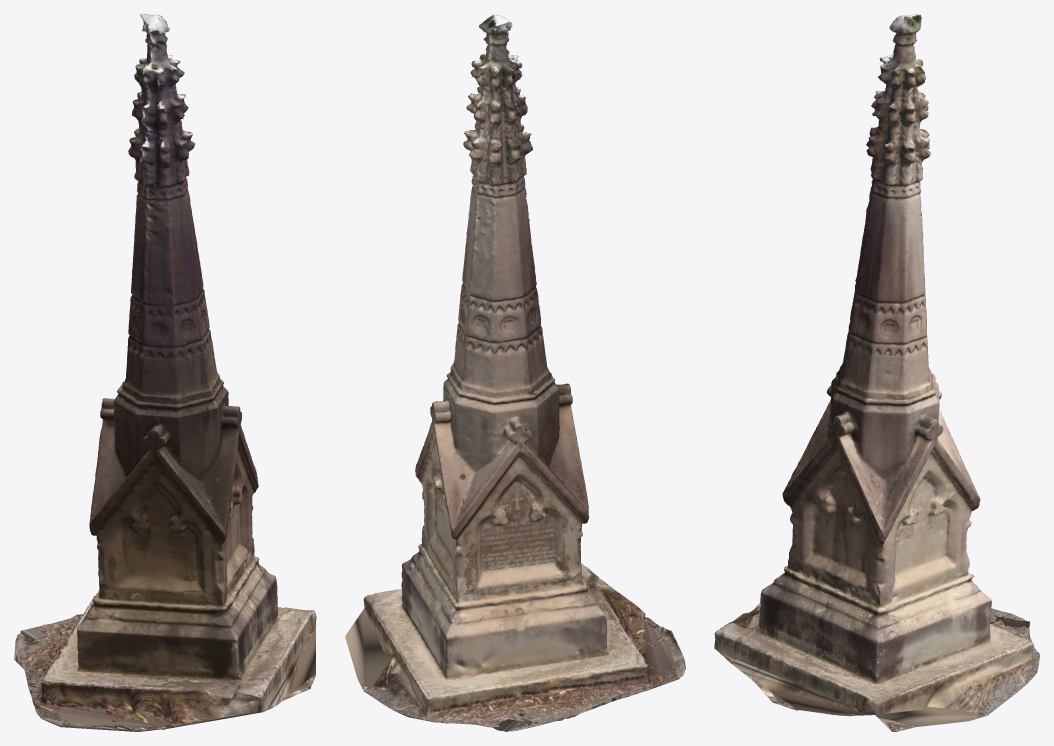
The model's file is gothic_memorial_spire_rookwood_cemetery.glb.
3 renders of one model, left to right at view 1: azimuth 30°, elevation 25°; view 2: azimuth 150°, elevation 25°; view 3: azimuth 270°, elevation 25°, orthographic.
Parts seen in each view (by area): view 1: Object_2; view 2: Object_2; view 3: Object_2.
Part boxes in pixels (<box>): Object_2: <box>14,14,316,731</box>; Object_2: <box>345,14,685,731</box>; Object_2: <box>714,14,1039,731</box>.
Bounding box in the file's own units: 4.09 × 8.72 × 3.92.
Materials: 1 (1 with a texture image).
